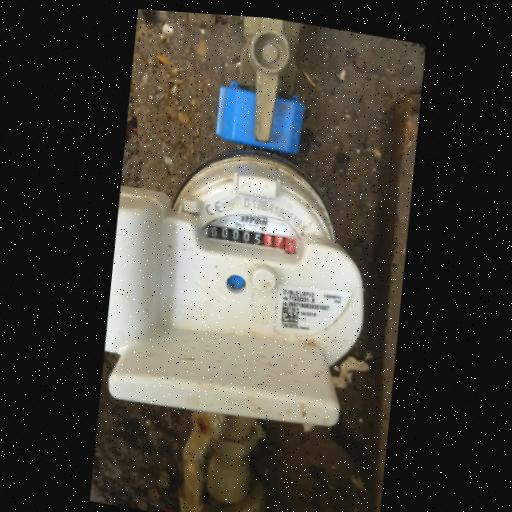0: (209, 225, 219, 240), (220, 227, 229, 242), (231, 228, 240, 242), (242, 230, 251, 244)
2: (285, 237, 297, 255)
3: (264, 234, 273, 248)
5: (253, 232, 262, 246)
7: (275, 235, 284, 250)
border_water_meter_number: (207, 223, 297, 256)
